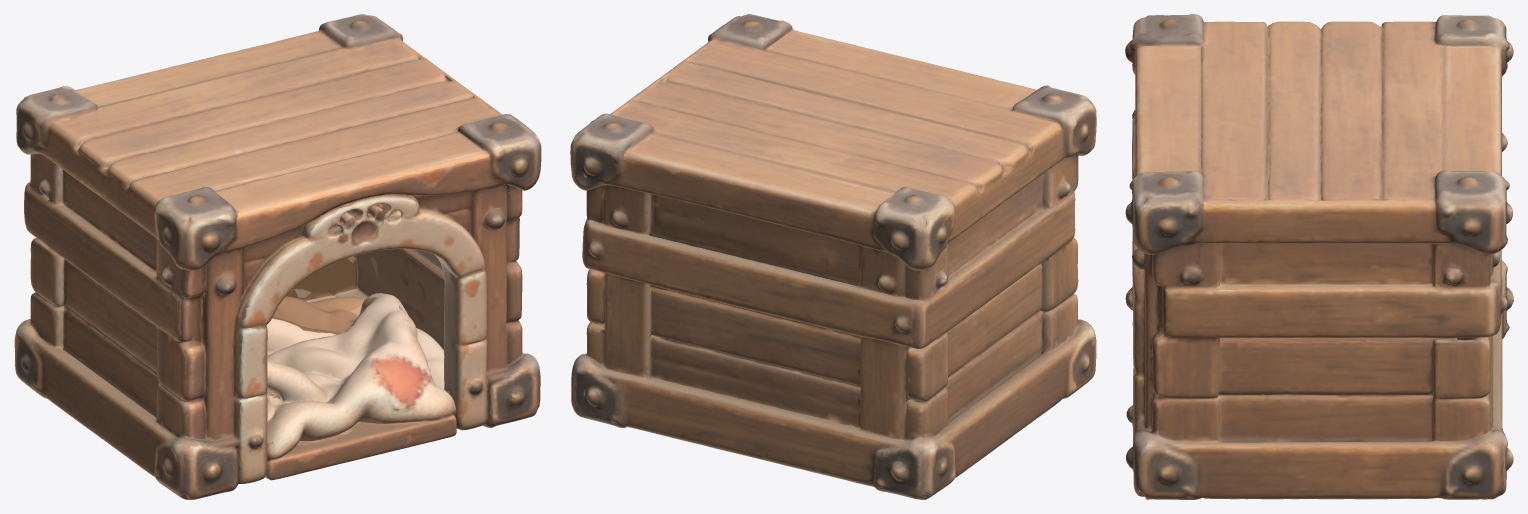
Rendered from C4_狗窝木箱_后续修改版.glb.
3 renders of one model, left to right at view 1: azimuth 30°, elevation 25°; view 2: azimuth 150°, elevation 25°; view 3: azimuth 270°, elevation 25°, orthographic. The views are drawn at different scales.
Visible parts, largest first — view 1: dog_high; view 2: dog_high; view 3: dog_high.
Part boxes in pixels (x1,y1,x2,y2): dog_high: (14,14,541,499); dog_high: (570,14,1096,499); dog_high: (1125,14,1513,499).
Bounding box in the file's own units: 1 × 0.7565 × 0.8501.
1 material, 1 textured.
